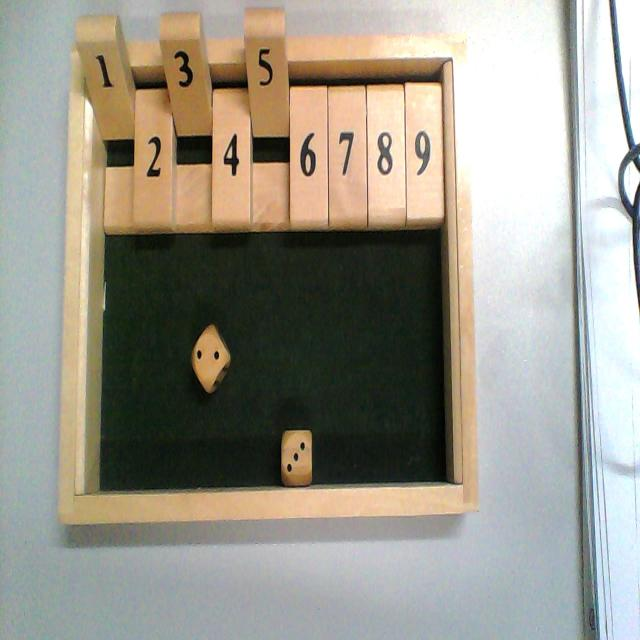2: (182, 317, 232, 397)
3: (274, 412, 318, 498)
O1: (76, 16, 134, 237)
O3: (160, 11, 210, 231)
O5: (244, 8, 291, 227)
